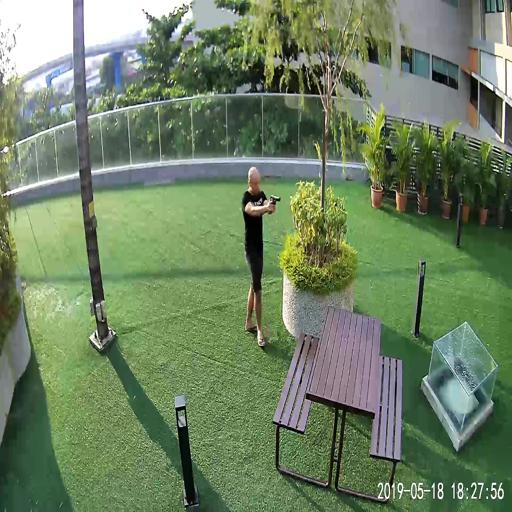pistol: (269, 195, 280, 214)
